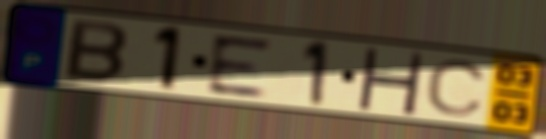1: (149, 26, 187, 95), (298, 38, 334, 108)
B: (60, 16, 131, 86)
C: (424, 58, 490, 118)
E: (206, 33, 275, 99)
H: (353, 45, 427, 117)
